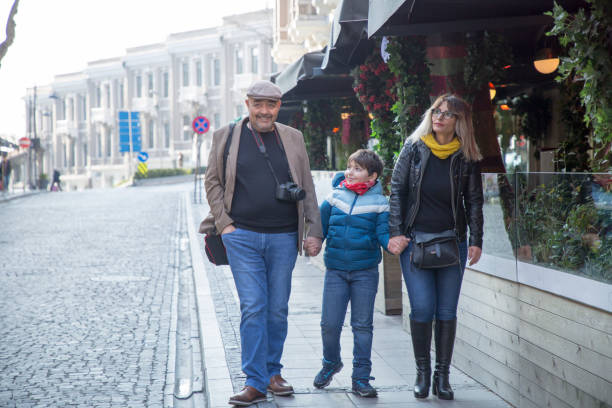yaya: (188, 75, 316, 407), (394, 80, 479, 395), (319, 137, 387, 397)
